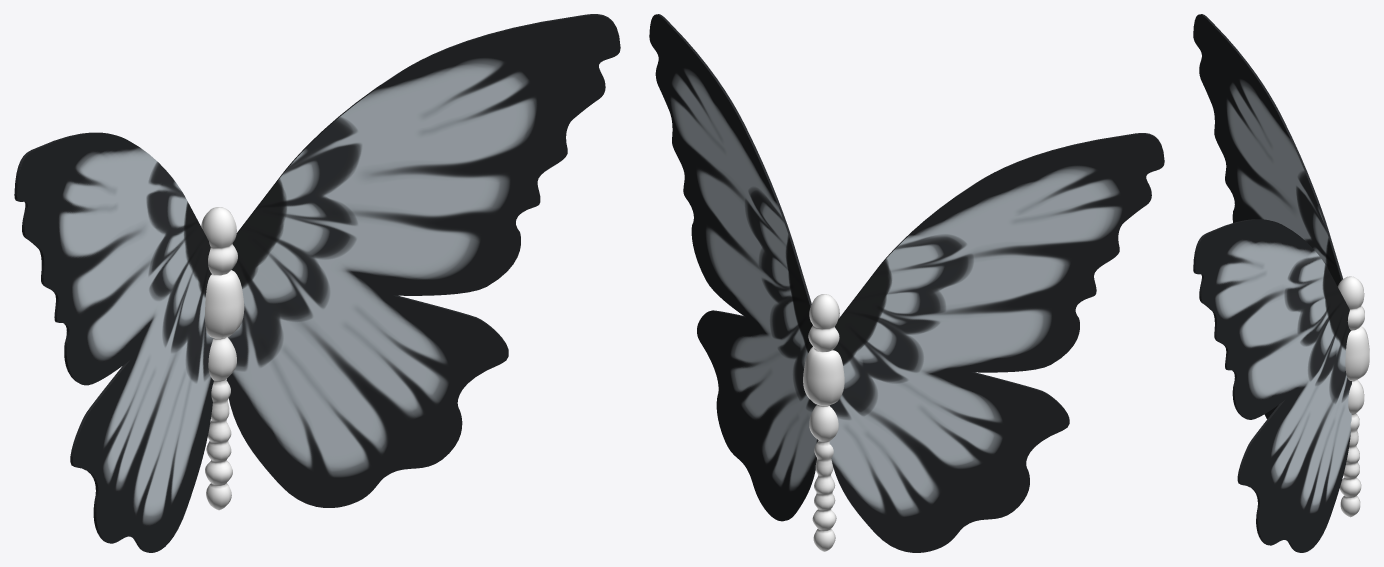
Rendered from butterfly7.gltf.
The picture shows the model from 3 angles, left to right: view 1: azimuth 30°, elevation 25°; view 2: azimuth 150°, elevation 25°; view 3: azimuth 270°, elevation 25°; orthographic projection. The views are drawn at different scales.
Parts seen in each view (by area): view 1: butterfly-wing-right.001, butterfly-wing-right, butterfly mesh; view 2: butterfly-wing-right, butterfly-wing-right.001, butterfly mesh; view 3: butterfly-wing-right.001, butterfly-wing-right, butterfly mesh.
Part boxes in pixels (x1,y1,x2,y2): butterfly-wing-right.001: (226,14,620,507); butterfly-wing-right: (14,132,213,552); butterfly mesh: (201,207,244,510); butterfly-wing-right: (829,133,1164,552); butterfly-wing-right.001: (649,14,818,521); butterfly mesh: (803,294,844,551); butterfly-wing-right.001: (1193,219,1351,552); butterfly-wing-right: (1193,14,1342,419); butterfly mesh: (1338,276,1369,517).
Bounding box in the file's own units: 1.83 × 1.42 × 0.5814.
Materials: 2 (1 with a texture image).
